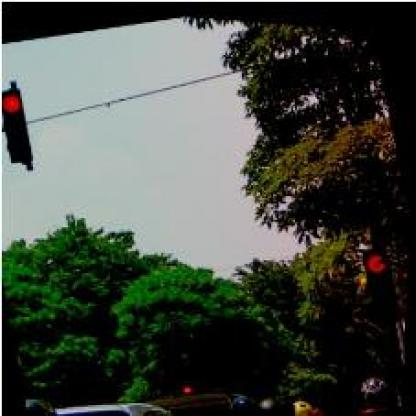red: (359, 240, 403, 321), (1, 83, 36, 166)
